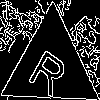R: (26, 40, 75, 99)
